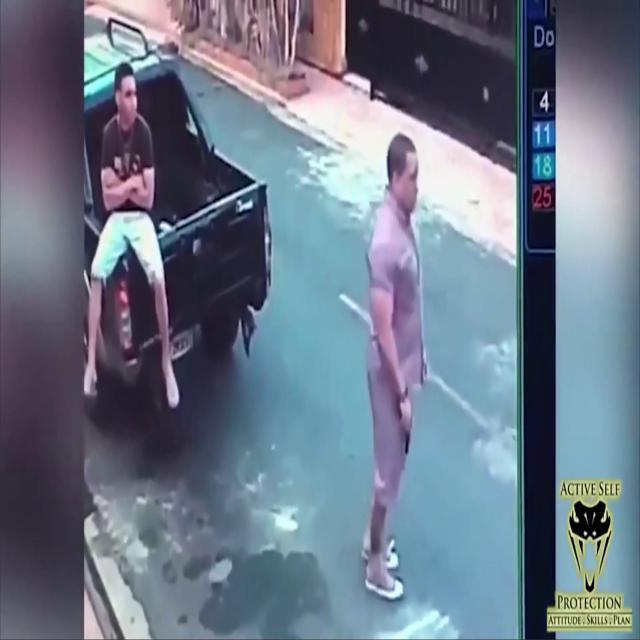gun: (396, 400, 414, 454)
